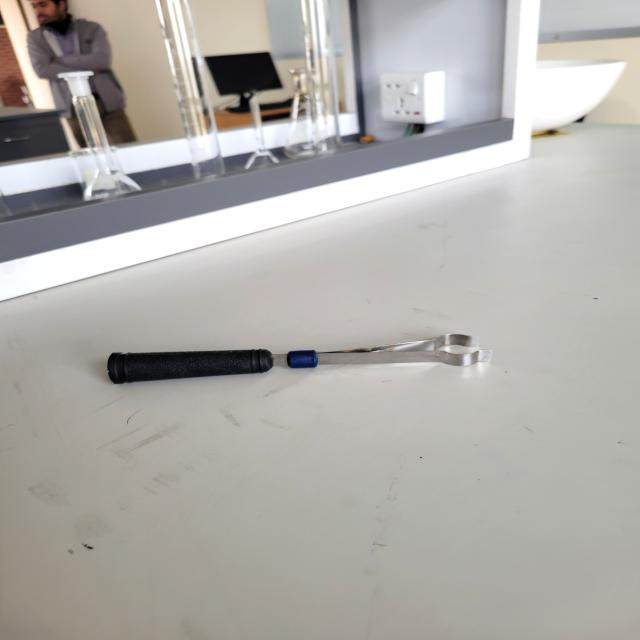TestTube_Holder: (82, 325, 503, 411)
